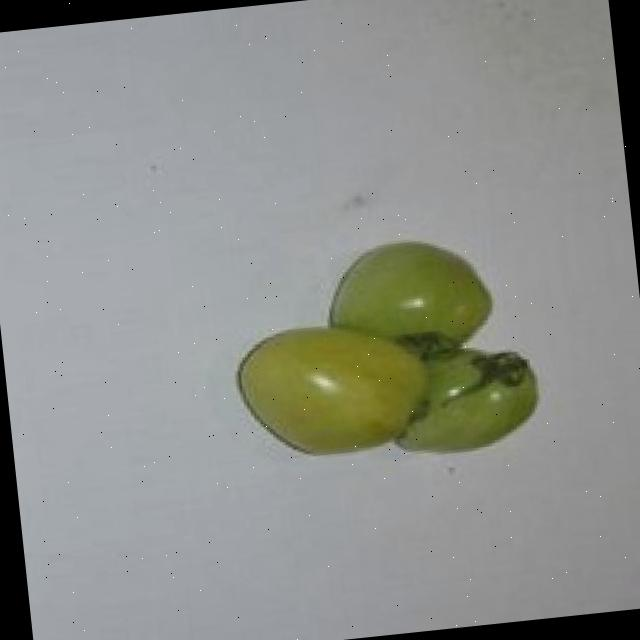tomato: (214, 195, 582, 552)
